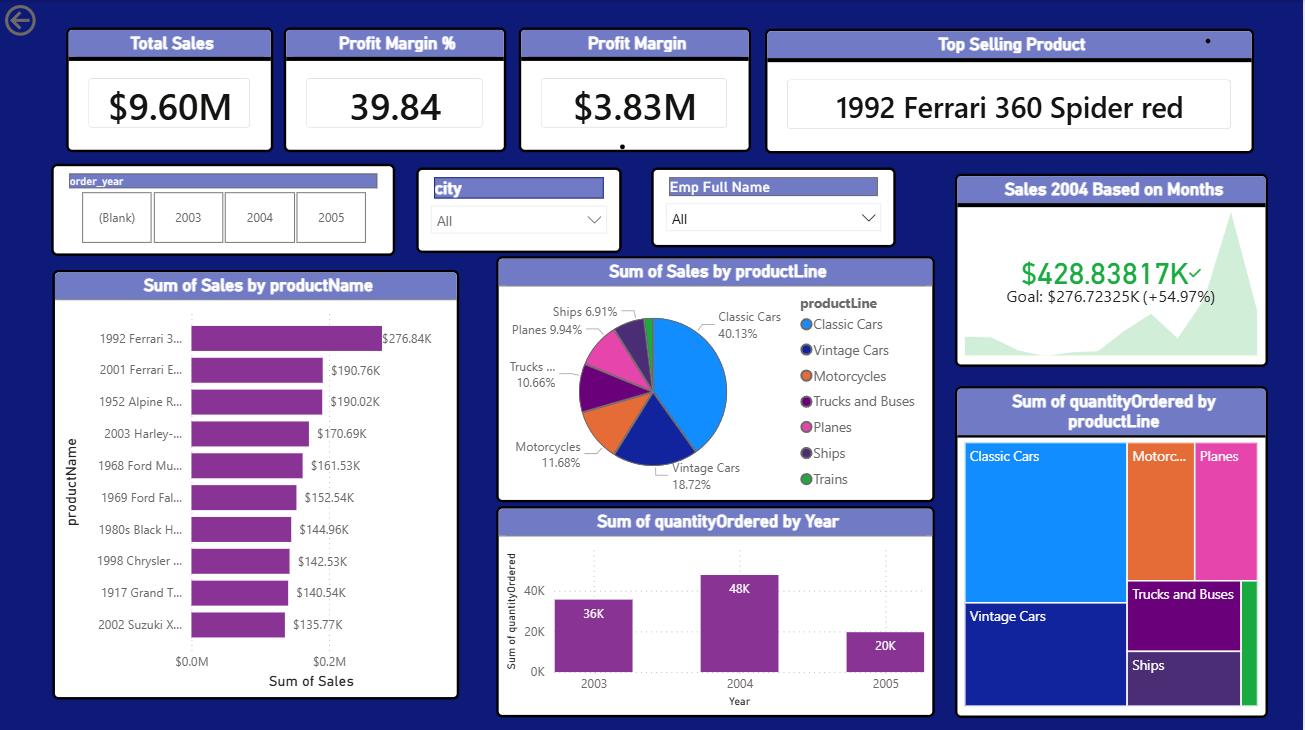

This screenshot's page, from the dashboard's own definition file:
{"tool":"powerbi","page":{"name":"Page 1","canvas":[1280,720],"ordinal":0},"visuals":[{"type":"barChart","fields":{"Category":["products.productName"],"Y":["Sum(order details.Sales)"]},"box":[52.1,264.8,399.3,421.3],"z":0},{"type":"pieChart","fields":{"Category":["products.productLine"],"Y":["Sum(order details.Sales)"]},"box":[487.1,251.5,430.7,241.7],"z":1000},{"type":"actionButton","box":[0,0,100,40],"z":2000},{"type":"cardVisual","title":"Profit Margin ","fields":{"Data":["Sum(order details.profit)"]},"box":[509.1,27.4,227.8,122.1],"z":3000},{"type":"cardVisual","title":"Top Selling Product","fields":{"Data":["order details.Top Product"]},"box":[750.6,28.8,480.3,122.1],"z":4000},{"type":"slicer","fields":{"Values":["orders.order_year"]},"box":[50.8,160.5,337.6,90.6],"z":5000},{"type":"kpi","title":"Sales 2004 Based on Months","fields":{"Indicator":["orders.sales_2004"],"Goal":["orders.sales_2003"],"TrendLine":["orders.Month Name"]},"box":[937.2,170.2,307.4,189.4],"z":6000},{"type":"treemap","fields":{"Group":["products.productLine"],"Values":["Sum(order details.quantityOrdered)"]},"box":[937.2,378.7,307.4,325.2],"z":7000},{"type":"columnChart","fields":{"Category":["orders.orderDate.Variation.Date Hierarchy.Year","orders.orderDate.Variation.Date Hierarchy.Month"],"Y":["Sum(order details.quantityOrdered)"]},"box":[487.1,496.9,430.7,207.4],"z":8000},{"type":"cardVisual","title":"Profit Margin %","fields":{"Data":["orders.Profit_Margin_%"]},"box":[278.6,27.4,218.2,122.1],"z":9000},{"type":"cardVisual","title":"Total Sales","fields":{"Data":["Sum(order details.Sales)"]},"box":[64.5,27.4,203.1,122.1],"z":10000},{"type":"slicer","fields":{"Values":["employees.city"]},"box":[408.9,164.7,201.7,83.7],"z":11000},{"type":"slicer","fields":{"Values":["employees.Emp Full Name"]},"box":[639.5,164.7,240.1,78.2],"z":12000}]}

Visuals, with their boxes in screenshot pixels (x1, y1, x2, y2), scaled from the page's 1280x720 canvas onto the 1305x730 screenshot:
barChart - products.productName x Sum(order details.Sales): x1=53 y1=268 x2=460 y2=696
pieChart - products.productLine x Sum(order details.Sales): x1=497 y1=255 x2=936 y2=500
actionButton: x1=0 y1=0 x2=102 y2=41
"Profit Margin " cardVisual: x1=519 y1=28 x2=751 y2=152
"Top Selling Product" cardVisual: x1=765 y1=29 x2=1255 y2=153
slicer - orders.order_year: x1=52 y1=163 x2=396 y2=255
"Sales 2004 Based on Months" kpi: x1=956 y1=173 x2=1269 y2=365
treemap - products.productLine x Sum(order details.quantityOrdered): x1=956 y1=384 x2=1269 y2=714
columnChart - orders.orderDate.Variation.Date Hierarchy.Year x orders.orderDate.Variation.Date Hierarchy.Month: x1=497 y1=504 x2=936 y2=714
"Profit Margin %" cardVisual: x1=284 y1=28 x2=507 y2=152
"Total Sales" cardVisual: x1=66 y1=28 x2=273 y2=152
slicer - employees.city: x1=417 y1=167 x2=623 y2=252
slicer - employees.Emp Full Name: x1=652 y1=167 x2=897 y2=246
